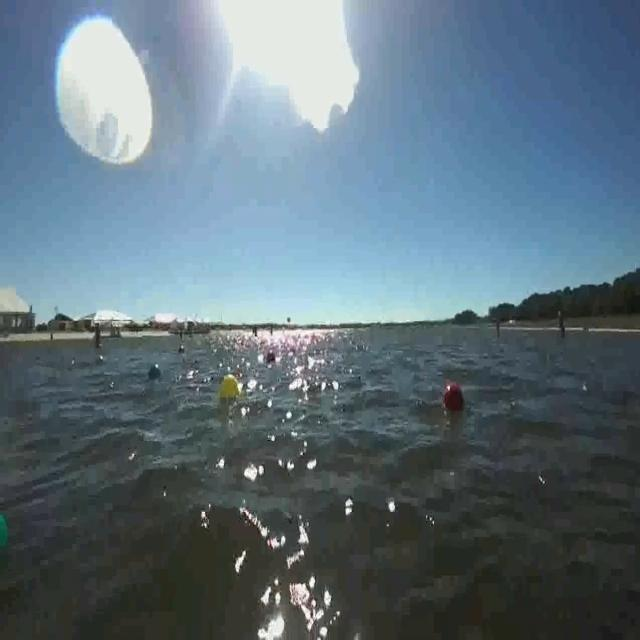green-buoy: (0, 511, 9, 552)
red-buoy: (442, 379, 462, 410)
yellow-buoy: (219, 373, 244, 407)
